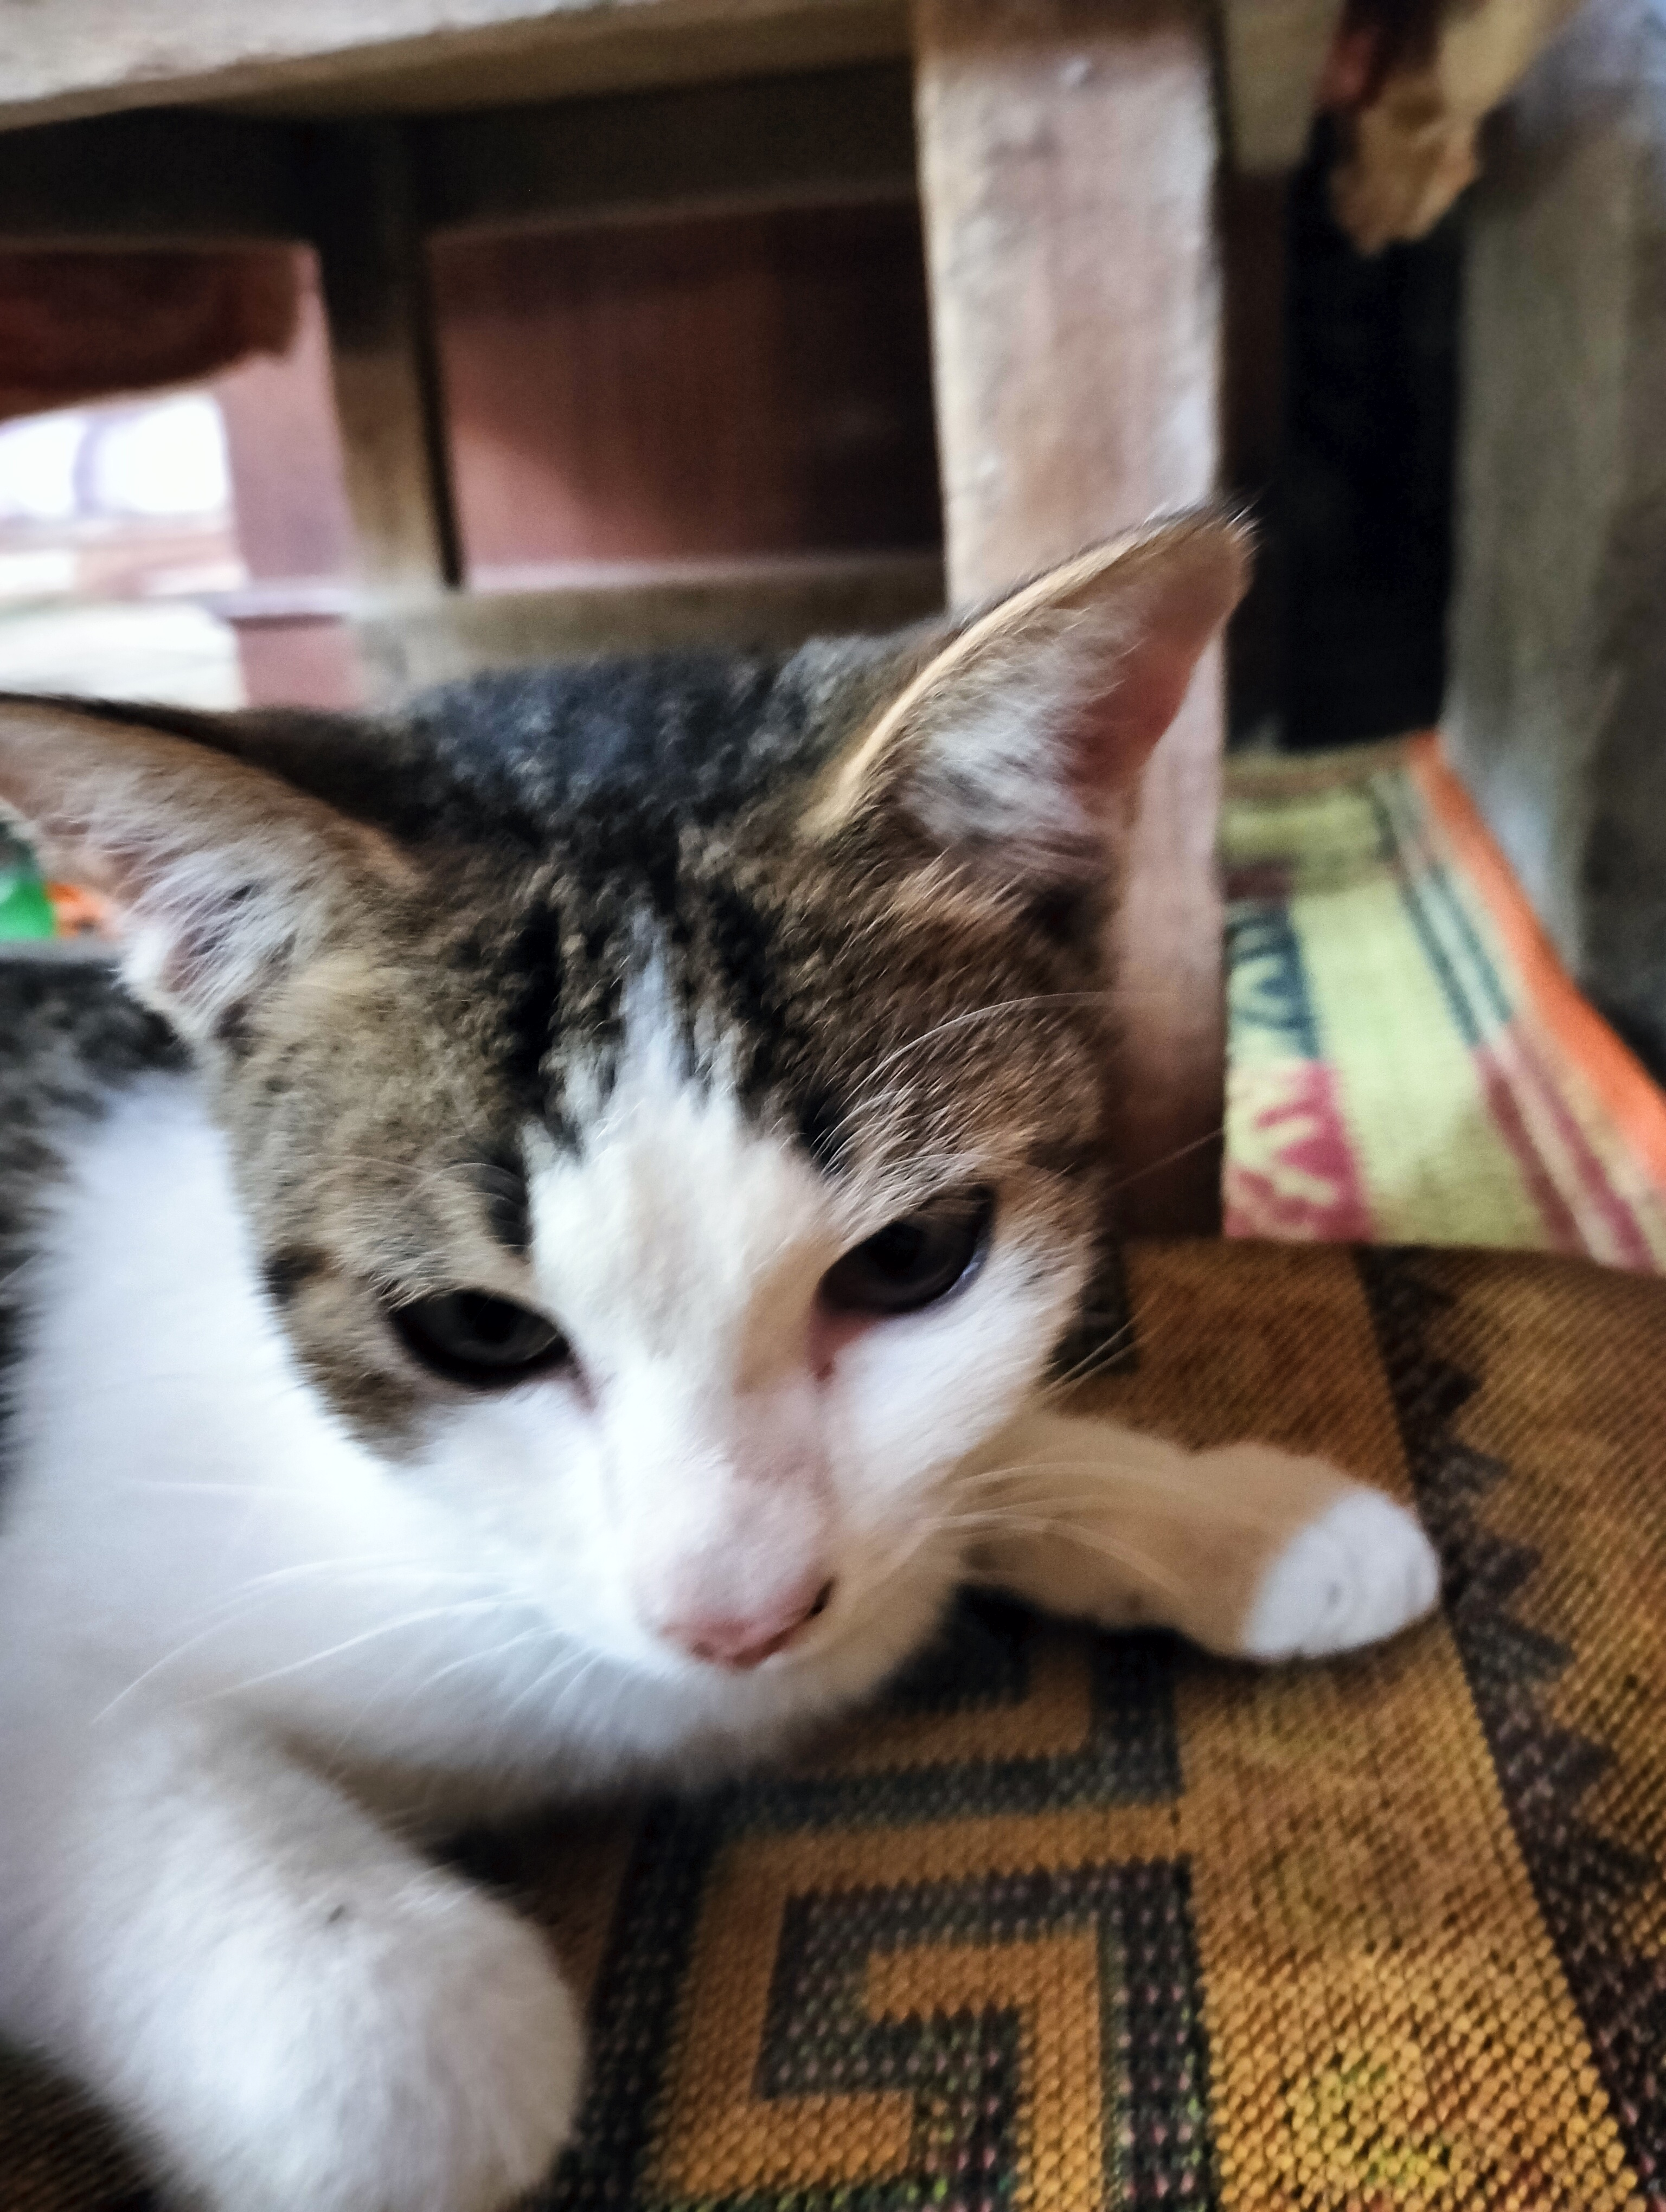miki: (56, 514, 1374, 1756)
